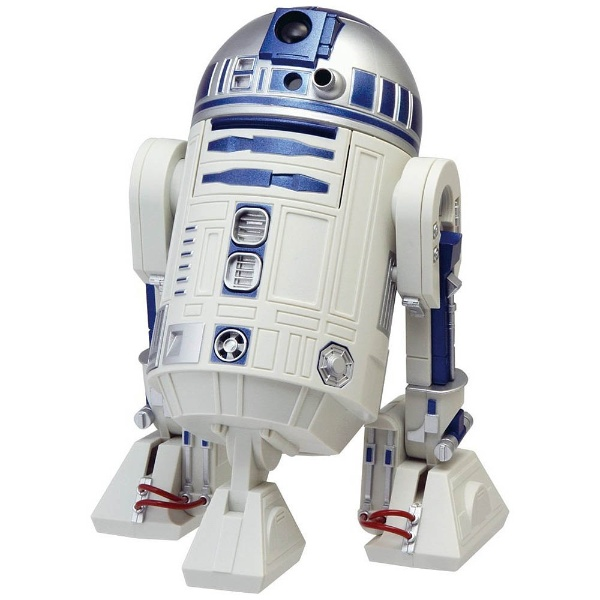r2d2: (90, 6, 510, 595)
